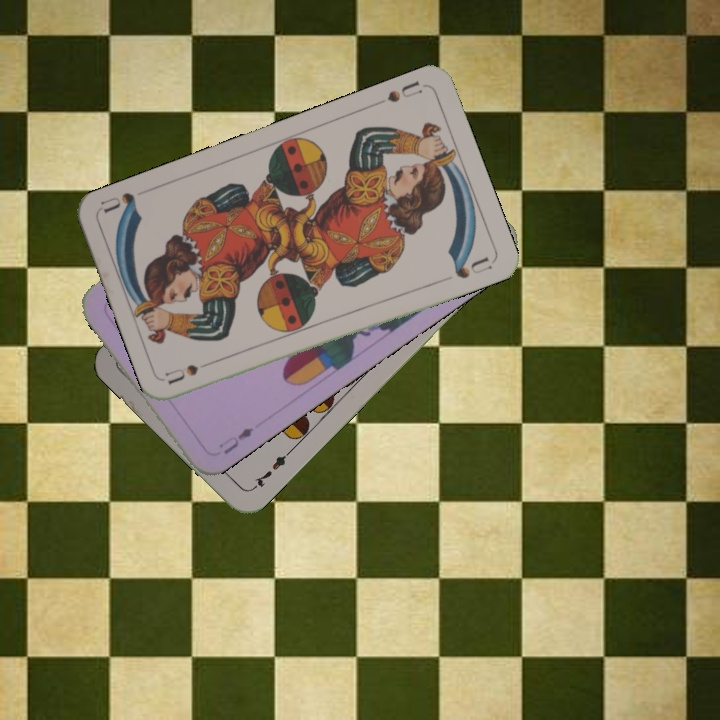E7: (247, 447, 294, 493)
EU: (215, 423, 256, 457)
SU: (162, 355, 221, 387), (370, 77, 425, 109)
